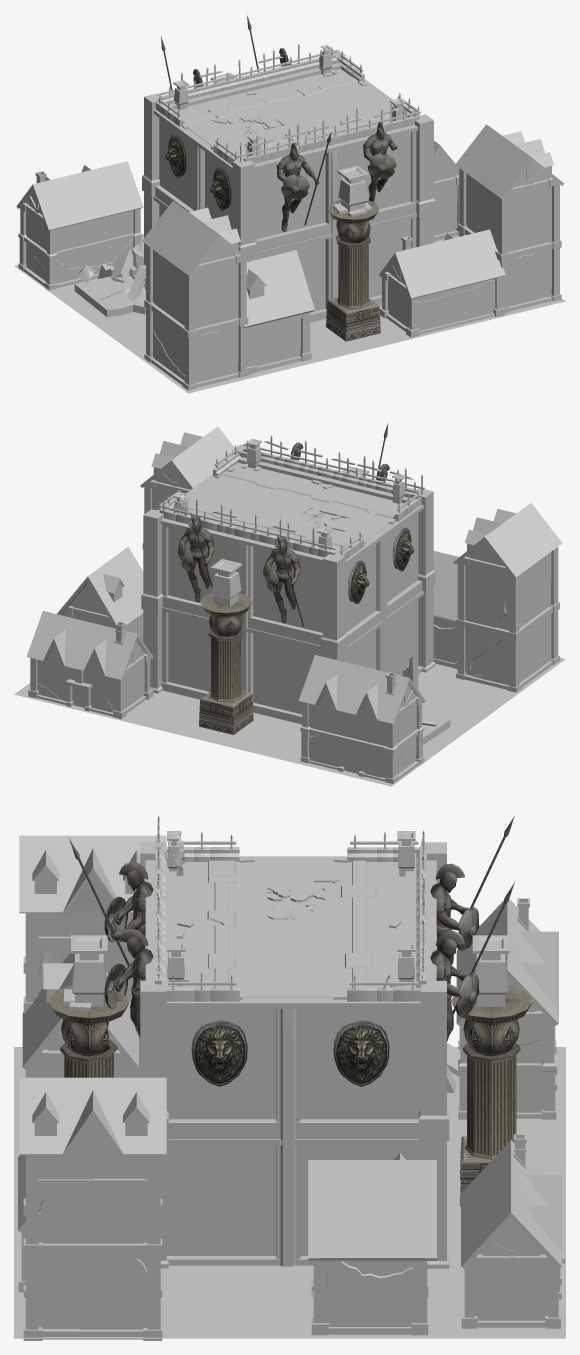
Rendered from Cell2LR.fbx.
3 views of the same model, one above another, from view 1: azimuth 30°, elevation 25°; view 2: azimuth 150°, elevation 25°; view 3: azimuth 270°, elevation 25° (orthographic). The views are drawn at different scales.
Visible parts, largest first — view 1: polySurface11; view 2: polySurface11; view 3: polySurface11.
Boxes of the visible parts, x1,y1,x2,y2 form: polySurface11: (14, 16, 565, 393); polySurface11: (14, 423, 565, 786); polySurface11: (14, 815, 565, 1340).
Bounding box in the file's own units: 39.41 × 22.09 × 31.52.
